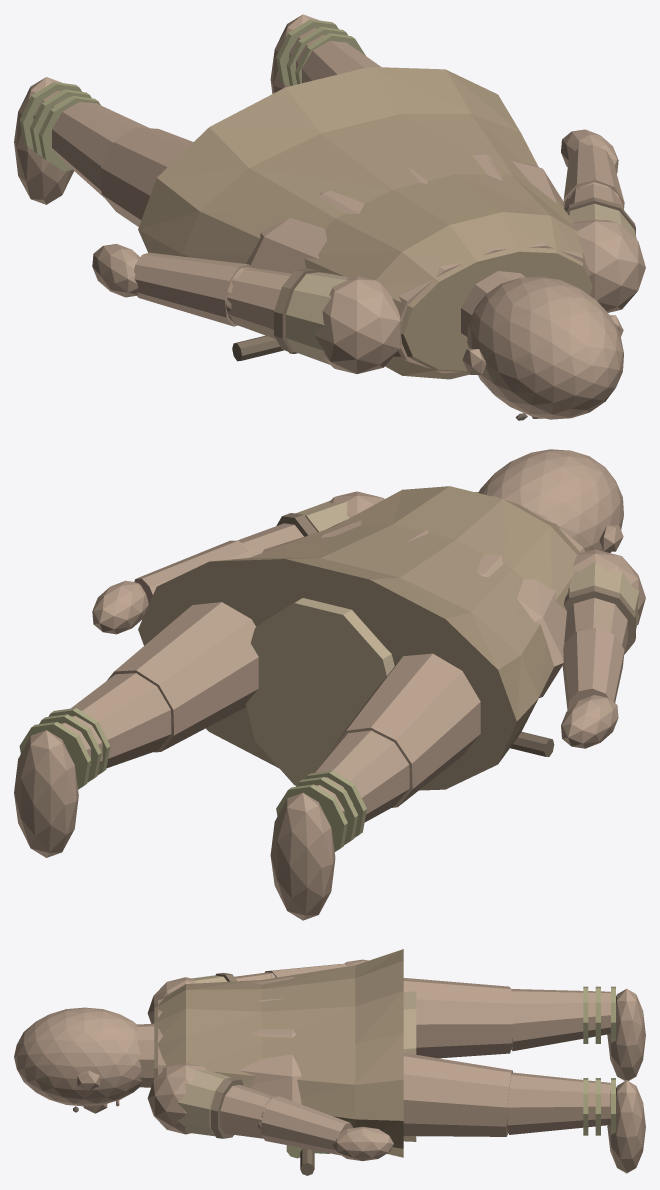
File: woman_stocky__cultivator.glb
3 renders of one model, top to bottom at view 1: azimuth 30°, elevation 25°; view 2: azimuth 150°, elevation 25°; view 3: azimuth 270°, elevation 25°, orthographic. The views are drawn at different scales.
Visible parts, largest first — view 1: part_037, part_016, part_023, part_014, part_026, part_000, part_030, part_002, part_028, part_024, part_003, part_009 (+15 smaller); view 2: part_037, part_038, part_007, part_000, part_016, part_010, part_003, part_009, part_002, part_026, part_014, part_027 (+16 smaller); view 3: part_037, part_016, part_007, part_000, part_009, part_002, part_033, part_014, part_010, part_003, part_030, part_031 (+13 smaller).
Boxes of the visible parts, <box> form: part_037: <box>138,67,592,379</box>; part_016: <box>467,276,623,419</box>; part_023: <box>314,276,402,373</box>; part_014: <box>246,152,589,373</box>; part_026: <box>134,252,251,326</box>; part_000: <box>101,127,193,226</box>; part_030: <box>572,219,645,312</box>; part_002: <box>33,91,149,197</box>; part_028: <box>286,272,348,364</box>; part_024: <box>227,267,291,338</box>; part_003: <box>14,77,73,204</box>; part_009: <box>289,28,381,83</box>; part_037: <box>138,486,581,790</box>; part_038: <box>245,598,394,785</box>; part_007: <box>107,602,258,752</box>; part_000: <box>331,653,480,807</box>; part_016: <box>478,449,623,552</box>; part_010: <box>14,730,78,857</box>; part_003: <box>270,793,335,920</box>; part_009: <box>60,673,171,767</box>; part_002: <box>311,730,409,822</box>; part_026: <box>562,627,624,710</box>; part_014: <box>262,496,584,697</box>; part_027: <box>561,695,618,748</box>; part_037: <box>154,949,403,1157</box>; part_016: <box>14,1007,142,1106</box>; part_007: <box>403,1053,512,1136</box>; part_000: <box>403,978,513,1058</box>; part_009: <box>507,1072,610,1134</box>; part_002: <box>511,989,610,1051</box>; part_033: <box>261,1096,352,1155</box>; part_014: <box>158,977,301,1104</box>; part_010: <box>607,1080,645,1173</box>; part_003: <box>607,988,645,1080</box>; part_030: <box>147,1062,206,1134</box>; part_031: <box>220,1084,274,1138</box>.
Size of the model in its own units: 1.61 by 0.6525 by 2.37.
